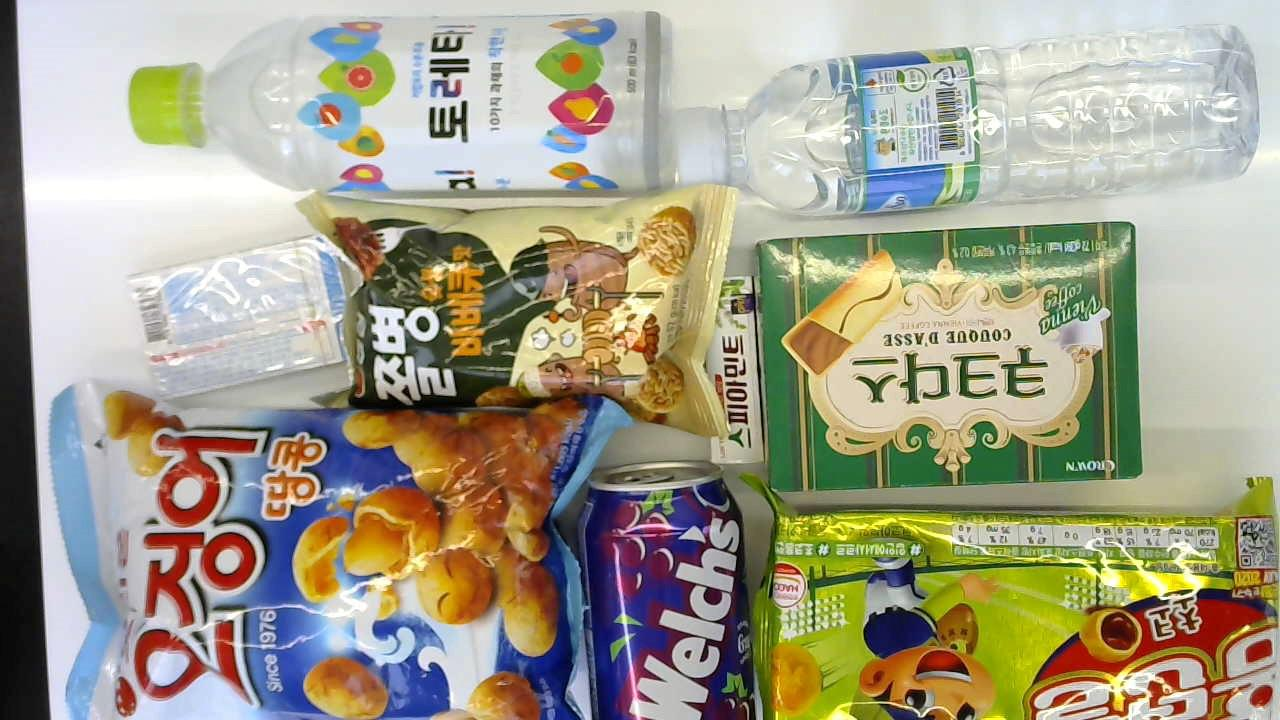ID_gum: (126, 232, 352, 401)
couque_coffee: (756, 215, 1145, 494)
homerunball: (755, 477, 1270, 720)
jjolbyung_ori: (299, 180, 736, 436)
samdasu: (670, 18, 1260, 225)
spearmint: (703, 272, 765, 469)
squid_peanut: (48, 376, 618, 720)
toreta: (129, 14, 671, 205)
welchs: (579, 455, 747, 720)
